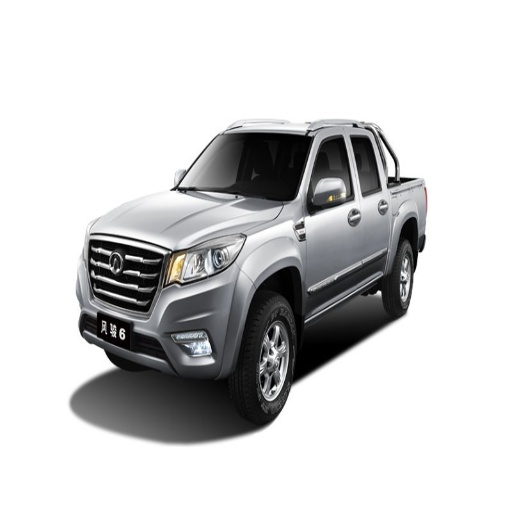front_bumper: (76, 232, 253, 379)
front_glass: (174, 132, 311, 202)
front_left_door: (308, 131, 362, 315)
